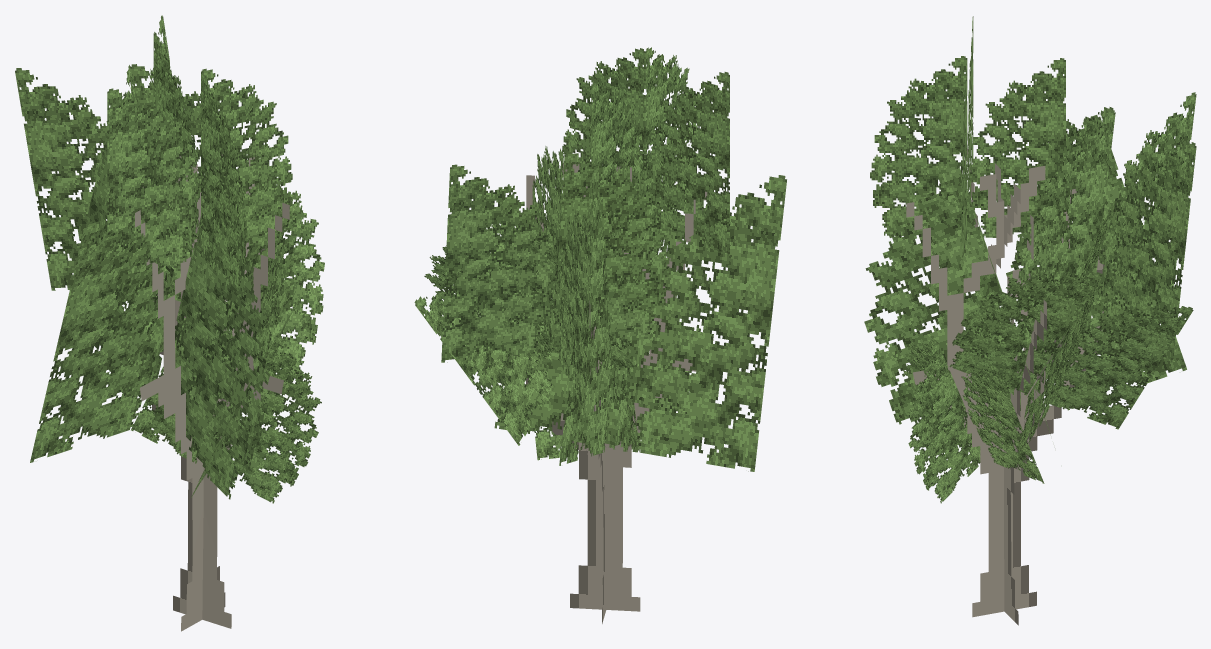
The model's file is uvmd-0041.glb.
3 renders of one model, left to right at view 1: azimuth 30°, elevation 25°; view 2: azimuth 150°, elevation 25°; view 3: azimuth 270°, elevation 25°, orthographic. The views are drawn at different scales.
Parts seen in each view (by area): view 1: uvmd-0041; view 2: uvmd-0041; view 3: uvmd-0041.
Boxes of the visible parts, box(x1,y1,x2,y2) form: uvmd-0041: box(15, 15, 324, 631); uvmd-0041: box(414, 47, 786, 623); uvmd-0041: box(864, 16, 1196, 625).
Size of the model in its own units: 162 by 253 by 160.
Materials: 2 (2 with a texture image).
